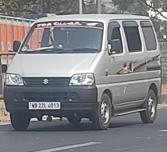Auto: (4, 13, 163, 131)
